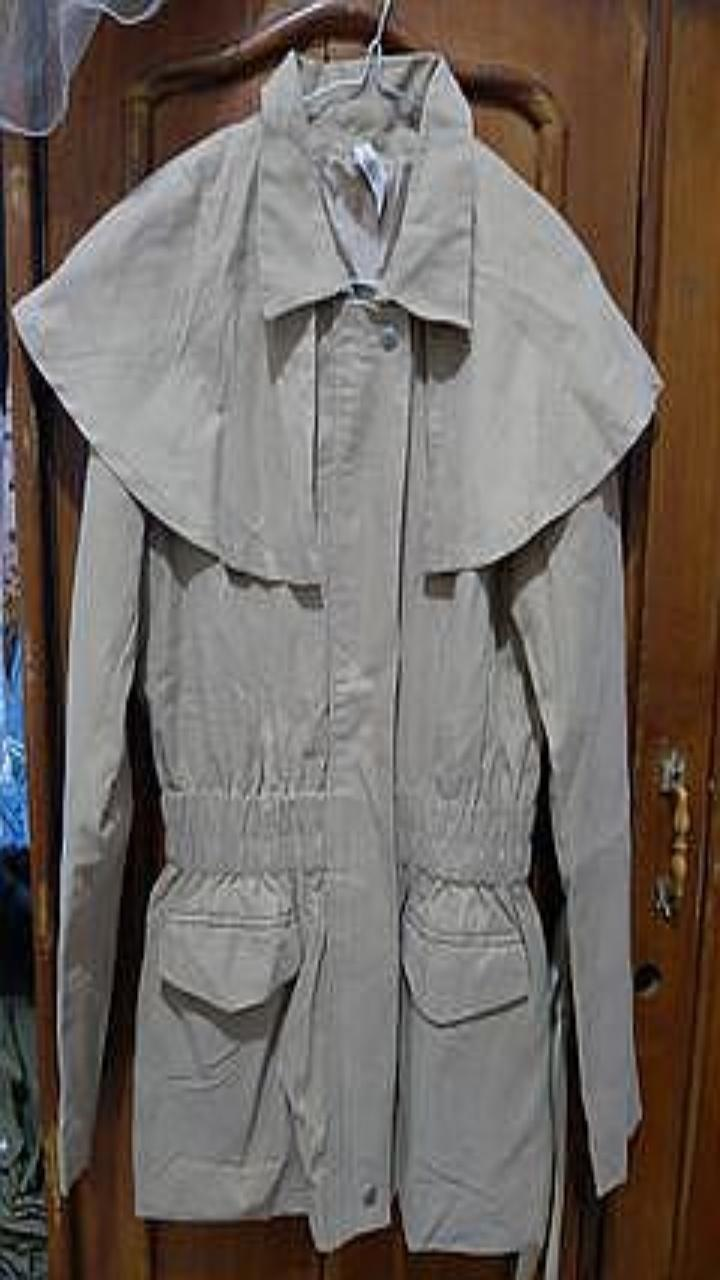Coat: (14, 50, 662, 1254)
